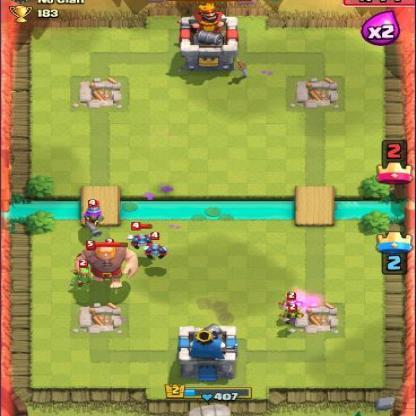enemy_giant: (75, 240, 142, 290)
enemy_goblin: (278, 290, 305, 316), (277, 303, 304, 326)
enemy_minion: (124, 221, 160, 252), (141, 230, 170, 263)
enemy_musketeer: (80, 197, 108, 239)
enemy_spear_goblin: (104, 236, 130, 267), (71, 258, 95, 290)
